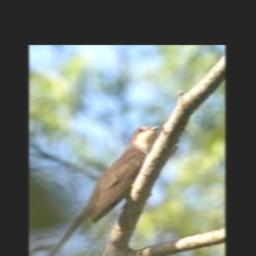Cuckoo: (49, 124, 161, 256)
